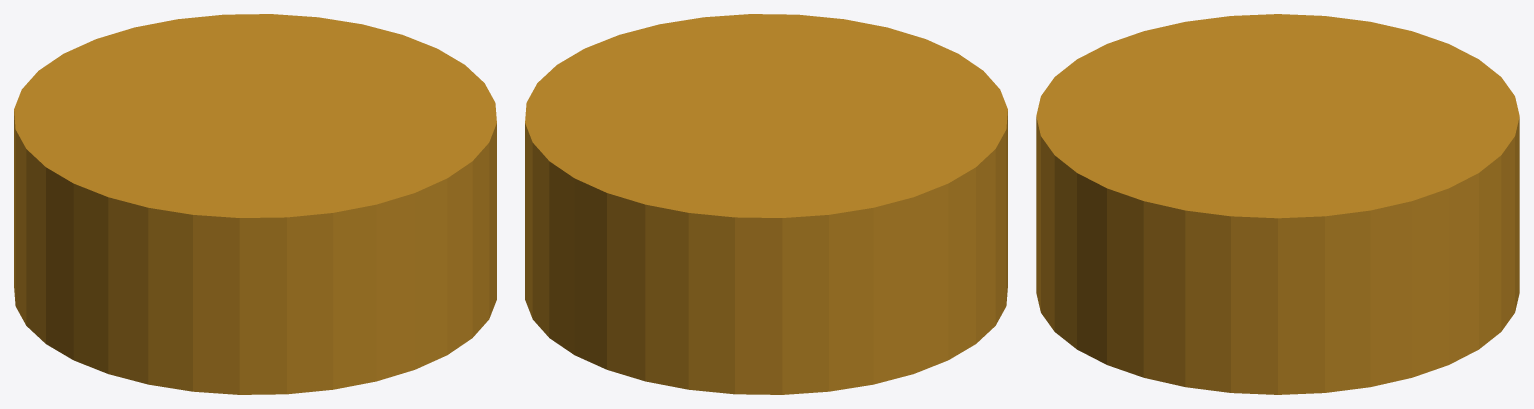
The model's file is CenterPiece.fbx.
3 renders of one model, left to right at view 1: azimuth 30°, elevation 25°; view 2: azimuth 150°, elevation 25°; view 3: azimuth 270°, elevation 25°, orthographic.
Visible parts, largest first — view 1: RingCenterPiece; view 2: RingCenterPiece; view 3: RingCenterPiece.
Boxes of the visible parts, box(x1,y1,x2,y2) form: RingCenterPiece: box(14, 14, 496, 394); RingCenterPiece: box(525, 14, 1007, 394); RingCenterPiece: box(1036, 14, 1519, 394).
Size of the model in its own units: 62 by 25 by 62.
